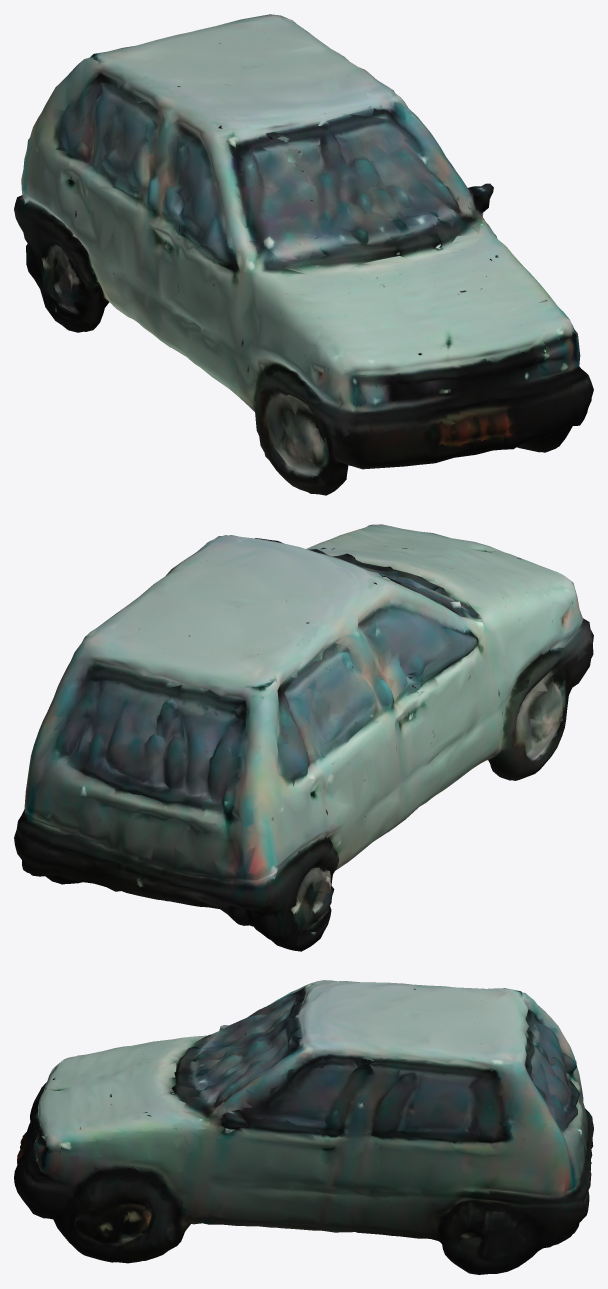
Rendered from maruti_green.glb.
3 views of the same model, one above another, from view 1: azimuth 30°, elevation 25°; view 2: azimuth 150°, elevation 25°; view 3: azimuth 270°, elevation 25° (orthographic). The views are drawn at different scales.
Parts seen in each view (by area): view 1: body; view 2: body; view 3: body.
Part boxes in pixels (x1,y1,x2,y2): body: (14, 14, 593, 495); body: (14, 524, 593, 951); body: (14, 980, 593, 1274).
Size of the model in its own units: 1.44 by 1.41 by 3.34.
Materials: 1 (1 with a texture image).
